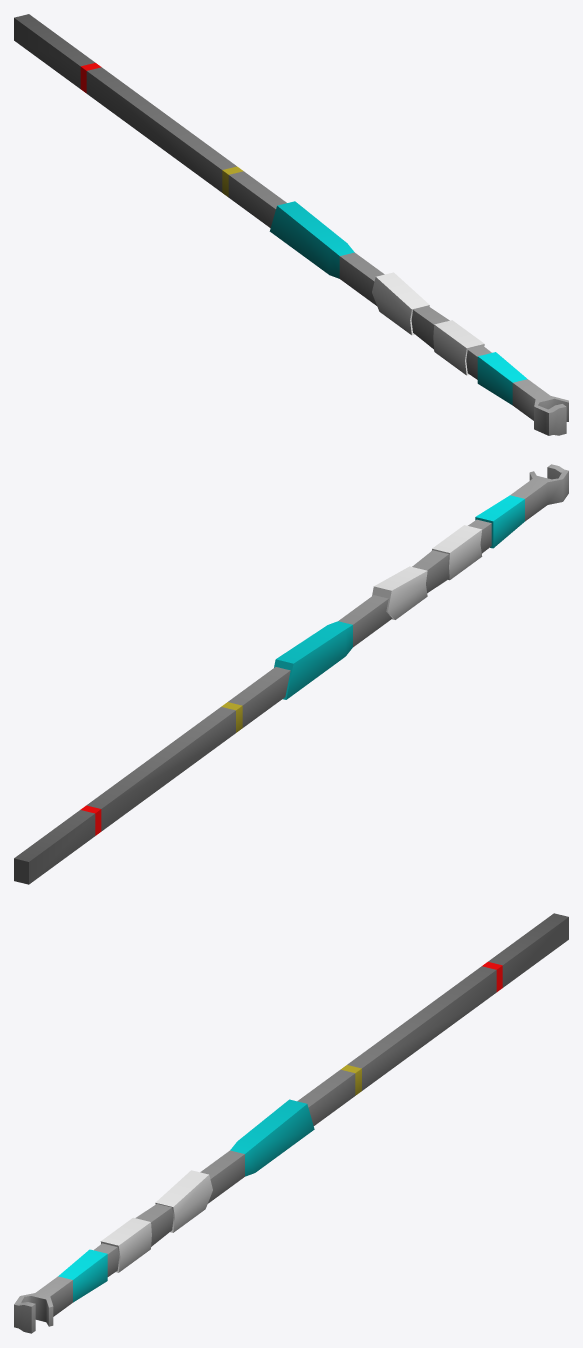
The model's file is OP_800_JOINT.glb.
3 views of the same model, one above another, from view 1: azimuth 30°, elevation 25°; view 2: azimuth 150°, elevation 25°; view 3: azimuth 330°, elevation 25° (orthographic).
Visible parts, largest first — view 1: JOINT; view 2: JOINT; view 3: JOINT.
Part boxes in pixels (x1=…): JOINT: x1=14, y1=14, x2=568, y2=435; JOINT: x1=14, y1=464, x2=568, y2=884; JOINT: x1=14, y1=913, x2=568, y2=1333.
Bounding box in the file's own units: 0.7793 × 0.7032 × 21.27.
4 materials, 4 textured.
